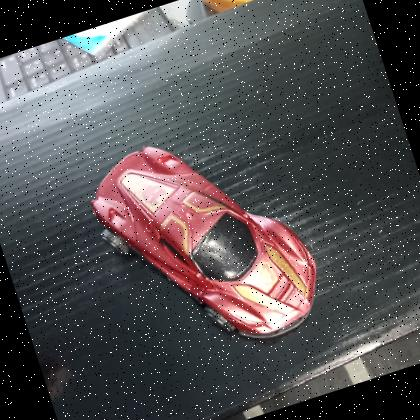Car: (69, 101, 340, 386)
